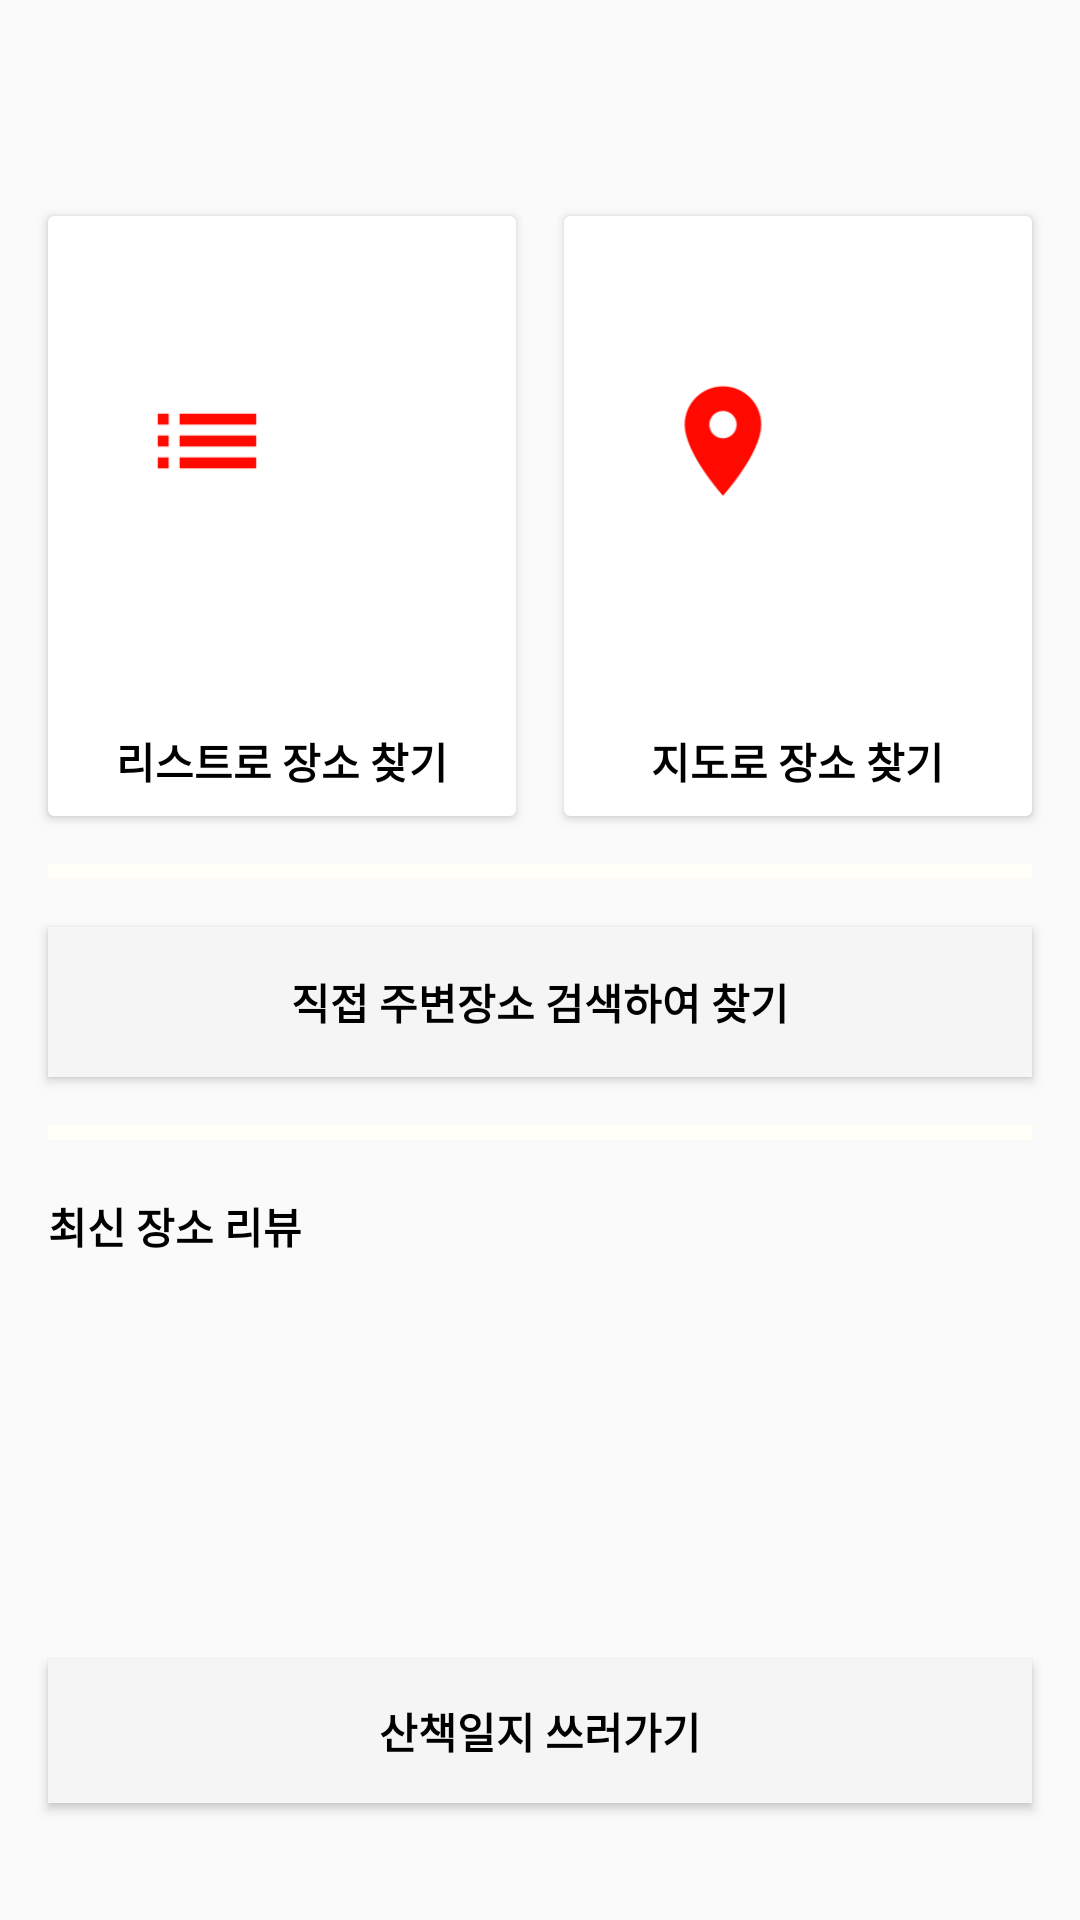

Locate icon controls on the screen. Image size 1080w x 1920h, boxes as (x1, y1, x2, y2).
list: (157, 413, 257, 469)
location: (684, 385, 762, 496)
